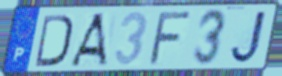3: (191, 6, 228, 69), (113, 10, 152, 69)
A: (68, 11, 109, 68)
D: (33, 13, 74, 69)
F: (146, 10, 195, 68)
J: (228, 10, 269, 66)
